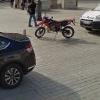Motorcycle: (31, 14, 83, 40)
